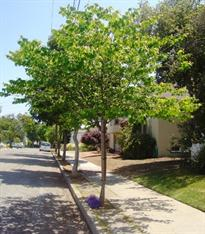tree: (10, 2, 200, 212)
